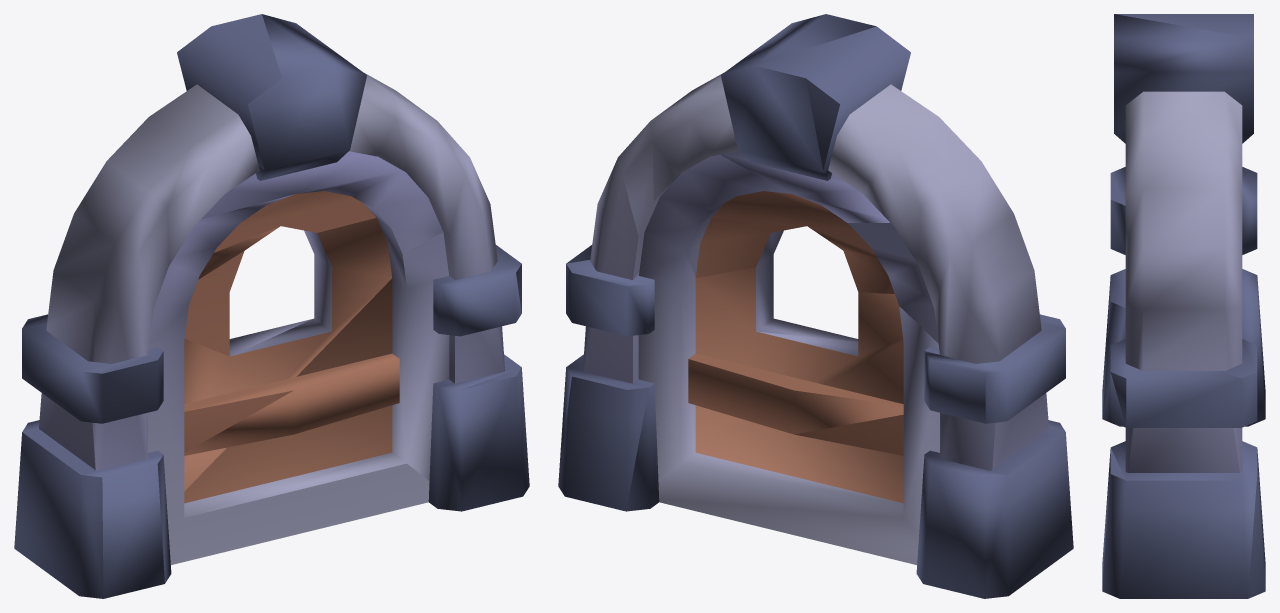
File: gate-door-window.fbx
3 views of the same model, side by side, from view 1: azimuth 30°, elevation 25°; view 2: azimuth 150°, elevation 25°; view 3: azimuth 270°, elevation 25° (orthographic).
Parts seen in each view (by area): view 1: gate-door-window, door; view 2: gate-door-window, door; view 3: gate-door-window.
Part boxes in pixels (x1=…): gate-door-window: x1=14, y1=14, x2=529, y2=598; door: x1=148, y1=151, x2=449, y2=564; gate-door-window: x1=558, y1=14, x2=1073, y2=598; door: x1=638, y1=151, x2=939, y2=564; gate-door-window: x1=1102, y1=14, x2=1265, y2=598.
Bounding box in the file's own units: 440 × 440 × 140.
